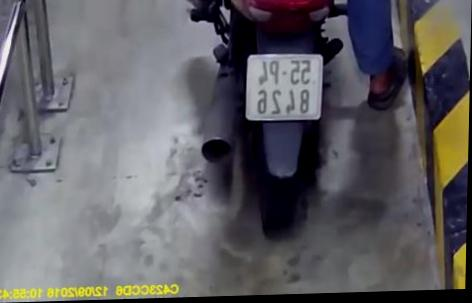License_Plate: (228, 50, 336, 126)
